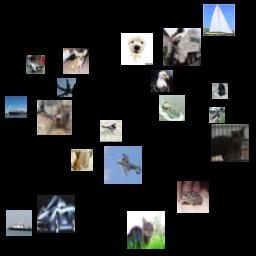airplane: (104, 146, 142, 184), (57, 78, 76, 97)
automobile: (37, 195, 75, 233), (26, 55, 45, 74)
bird: (100, 120, 122, 142), (151, 70, 173, 92)
cat: (127, 211, 165, 249), (211, 124, 249, 162), (37, 100, 72, 135)
dog: (121, 33, 153, 65), (63, 48, 89, 74), (71, 149, 93, 171), (212, 83, 228, 99)
frog: (177, 181, 209, 213)
ship: (203, 4, 235, 36), (159, 95, 185, 121), (6, 210, 32, 236), (5, 96, 27, 118)
truck: (163, 28, 201, 66), (209, 107, 225, 123)
